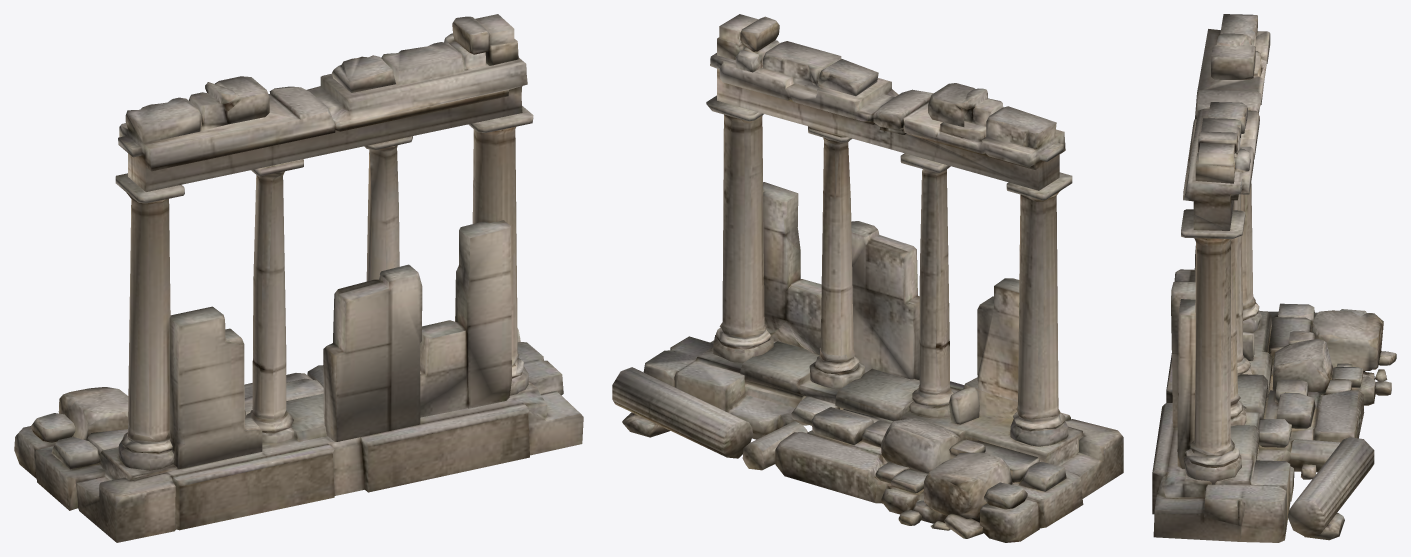
The model's file is broken_ruins.glb.
3 renders of one model, left to right at view 1: azimuth 30°, elevation 25°; view 2: azimuth 150°, elevation 25°; view 3: azimuth 270°, elevation 25°, orthographic. The views are drawn at different scales.
Bounding box in the file's own units: 5.46 × 4.5 × 2.7.
Materials: 1 (1 with a texture image).
